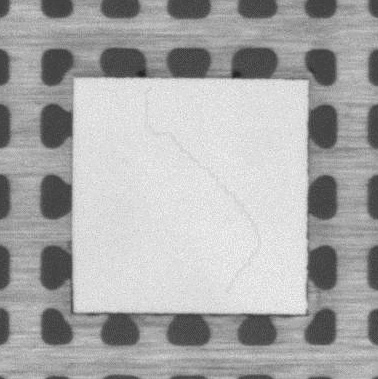DIE_CRACK: (141, 86, 261, 294)
